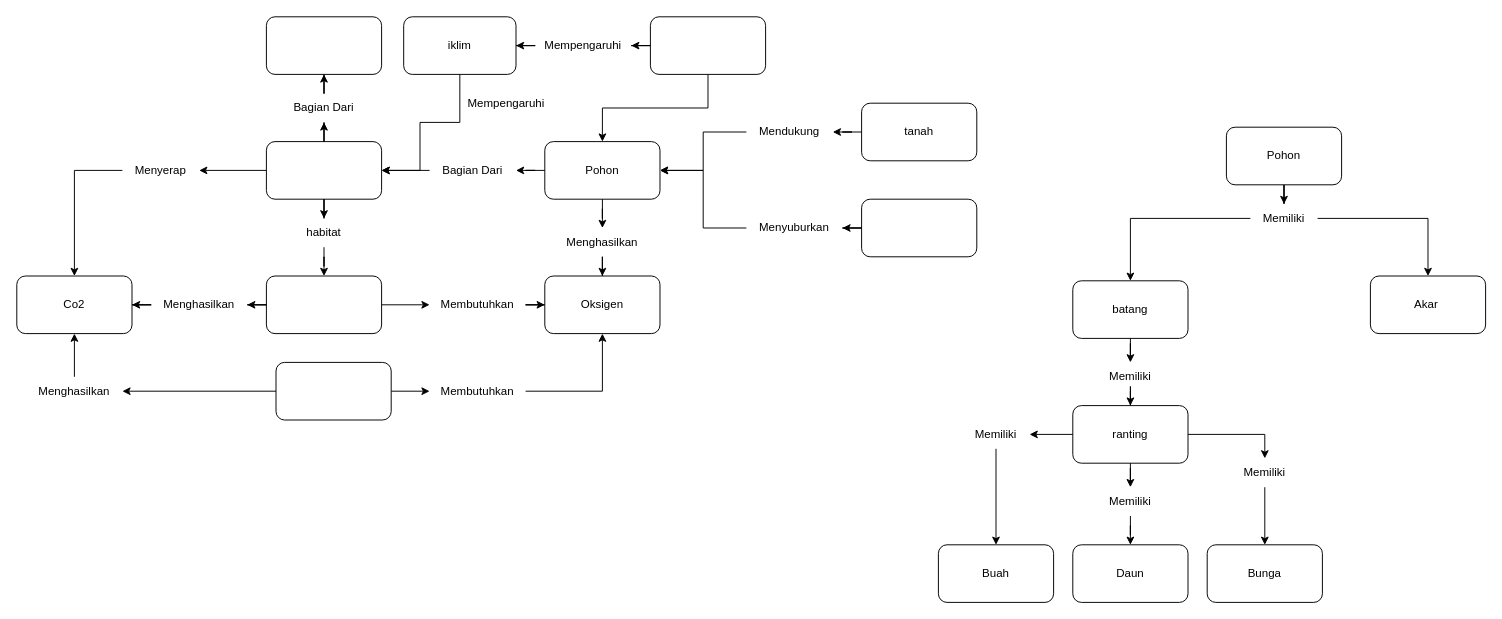
The diagram is 1502 pixels wide and 619 high, and some of its shapes have lost their labels. Each missing label, with the centre of its shape:
"air" goes at pixel 919 227.
"Ekosistem" goes at pixel 323 45.
"Hewan" goes at pixel 323 304.
"Hutan" goes at pixel 323 170.
"Manusia" goes at pixel 333 390.
"Matahari" goes at pixel 707 45.
